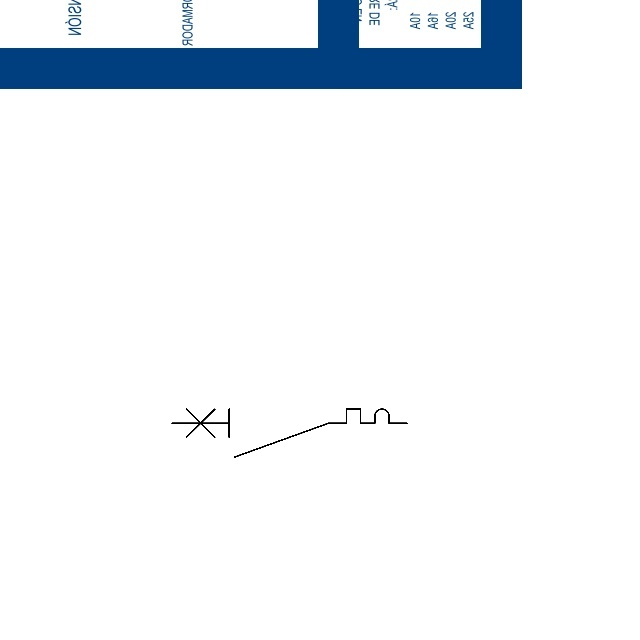interruptor_termomagnetico: (166, 403, 413, 463)
